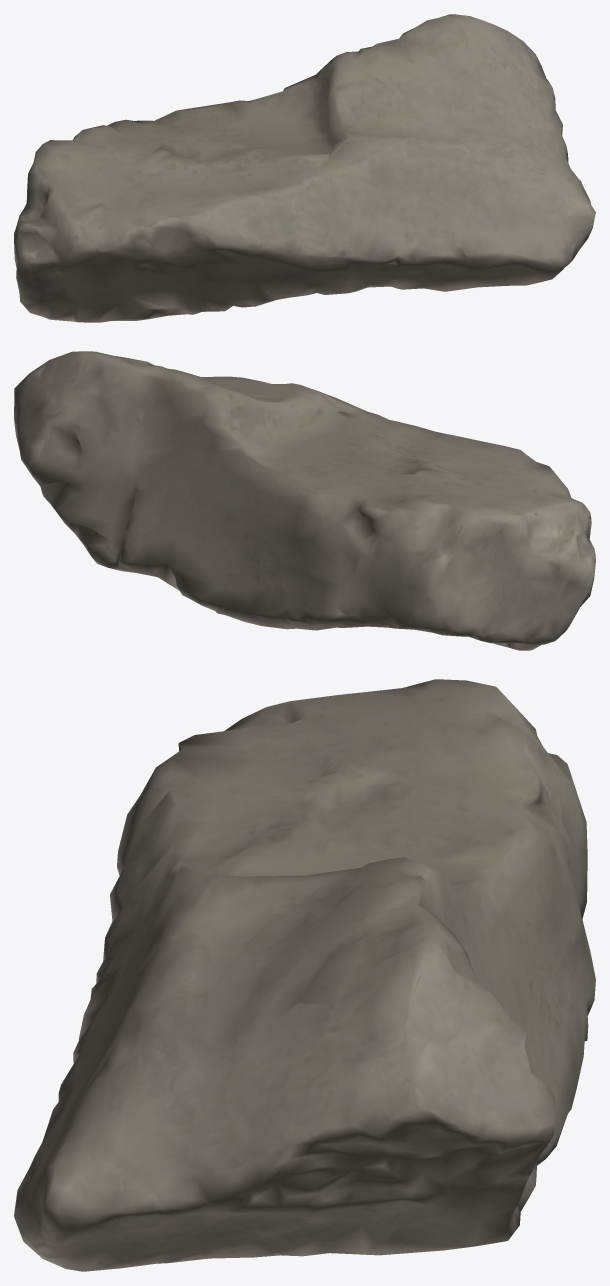
File: moon_rock_01.glb
3 renders of one model, top to bottom at view 1: azimuth 30°, elevation 25°; view 2: azimuth 150°, elevation 25°; view 3: azimuth 270°, elevation 25°, orthographic. The views are drawn at different scales.
Parts seen in each view (by area): view 1: moon_rock_01; view 2: moon_rock_01; view 3: moon_rock_01.
Part boxes in pixels (bbox=[...]): moon_rock_01: bbox=[14, 14, 595, 322]; moon_rock_01: bbox=[14, 351, 595, 650]; moon_rock_01: bbox=[14, 679, 595, 1271].
Bounding box in the file's own units: 0.2121 × 0.0751 × 0.1113.
Materials: 1 (1 with a texture image).
